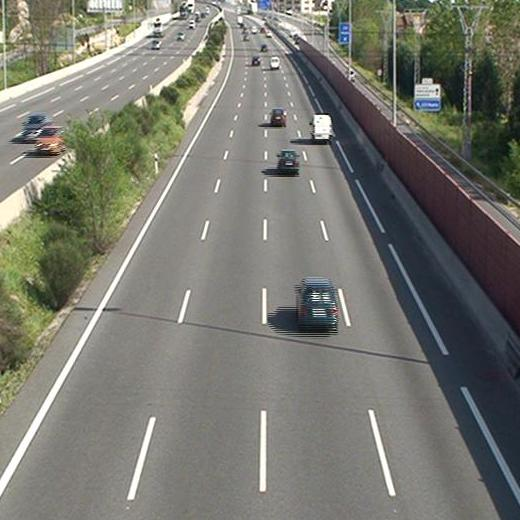car: (297, 280, 337, 329), (279, 152, 298, 174), (270, 107, 285, 125), (250, 54, 261, 66)
van: (311, 114, 331, 142), (269, 56, 279, 69)
